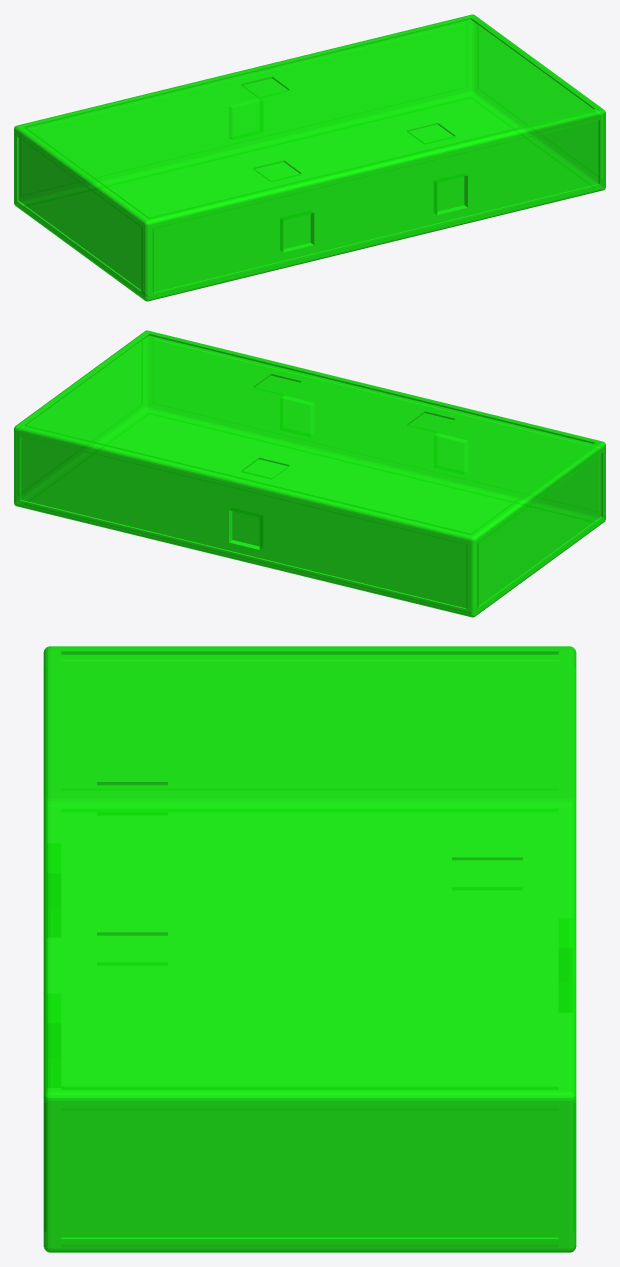
File: LogicalGateGhost.fbx
3 renders of one model, top to bottom at view 1: azimuth 30°, elevation 25°; view 2: azimuth 150°, elevation 25°; view 3: azimuth 270°, elevation 25°, orthographic. The views are drawn at different scales.
Parts seen in each view (by area): view 1: Cube.019; view 2: Cube.019; view 3: Cube.019.
Part boxes in pixels (x1,y1,x2,y2): Cube.019: (14,14,605,301); Cube.019: (14,330,605,617); Cube.019: (43,646,576,1252).
Size of the model in its own units: 30 by 5 by 15.
